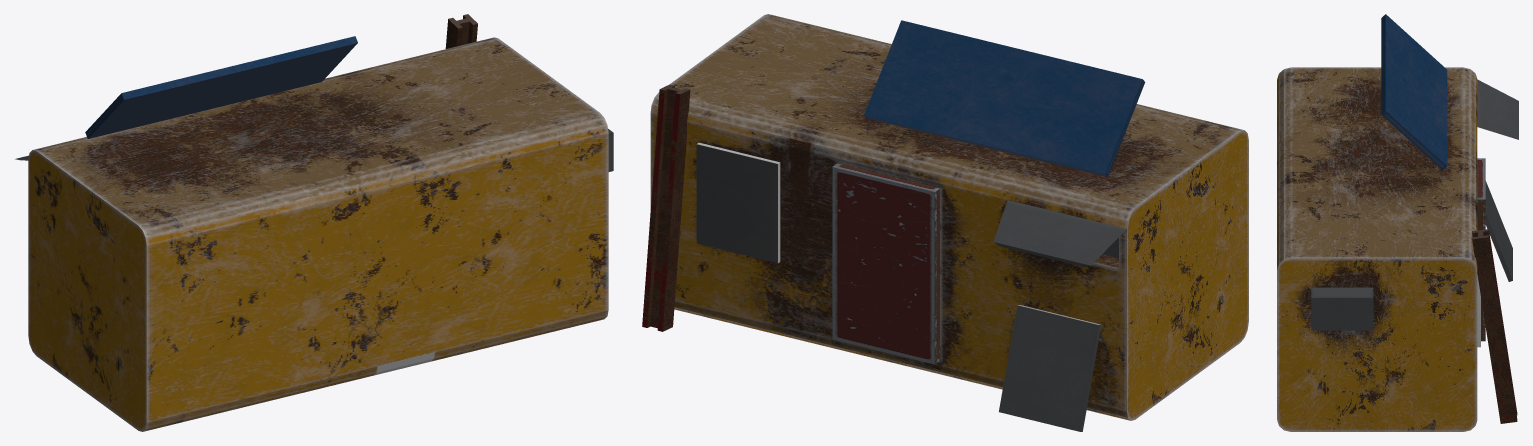
File: Shack2.fbx
3 views of the same model, side by side, from view 1: azimuth 30°, elevation 25°; view 2: azimuth 150°, elevation 25°; view 3: azimuth 270°, elevation 25° (orthographic). The views are drawn at different scales.
Parts seen in each view (by area): view 1: Cube.201; view 2: Cube.201; view 3: Cube.201.
Part boxes in pixels (x1,y1,x2,y2): Cube.201: (15, 14, 613, 431); Cube.201: (642, 14, 1248, 431); Cube.201: (1277, 14, 1518, 431).
Bounding box in the file's own units: 4790 × 2699 × 2431.
